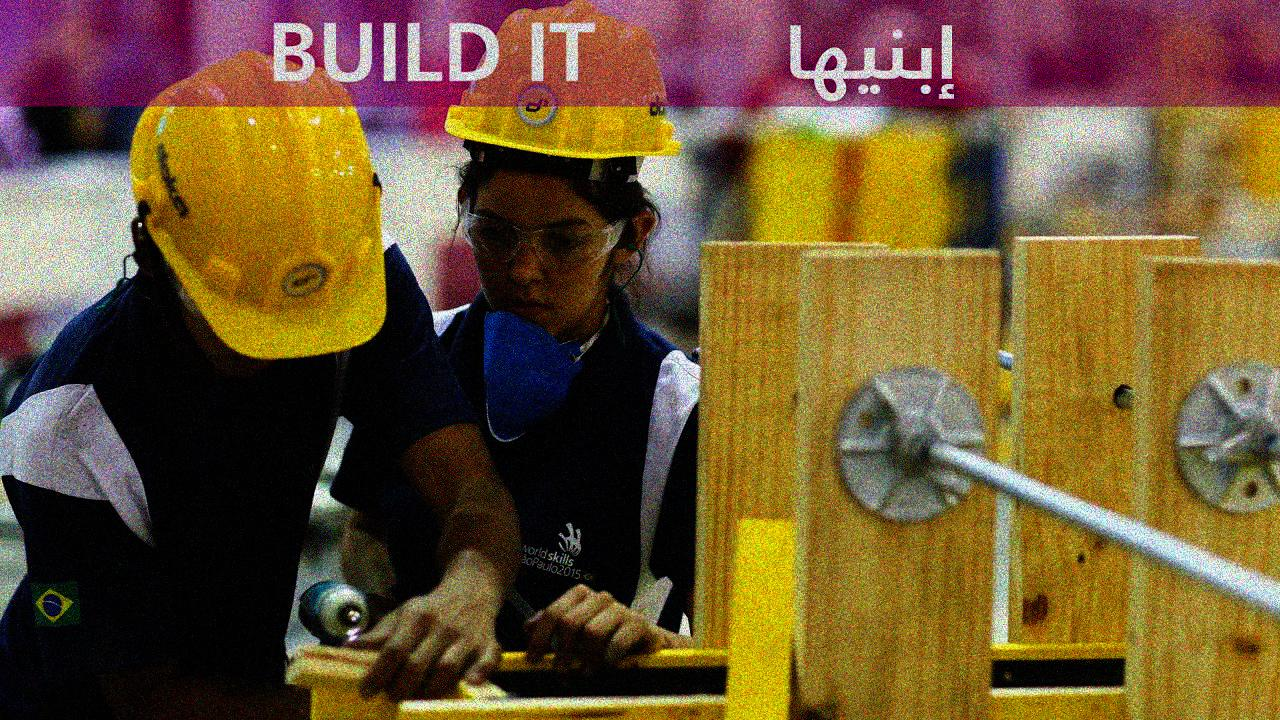helmet: (128, 54, 399, 382), (439, 4, 685, 323)
